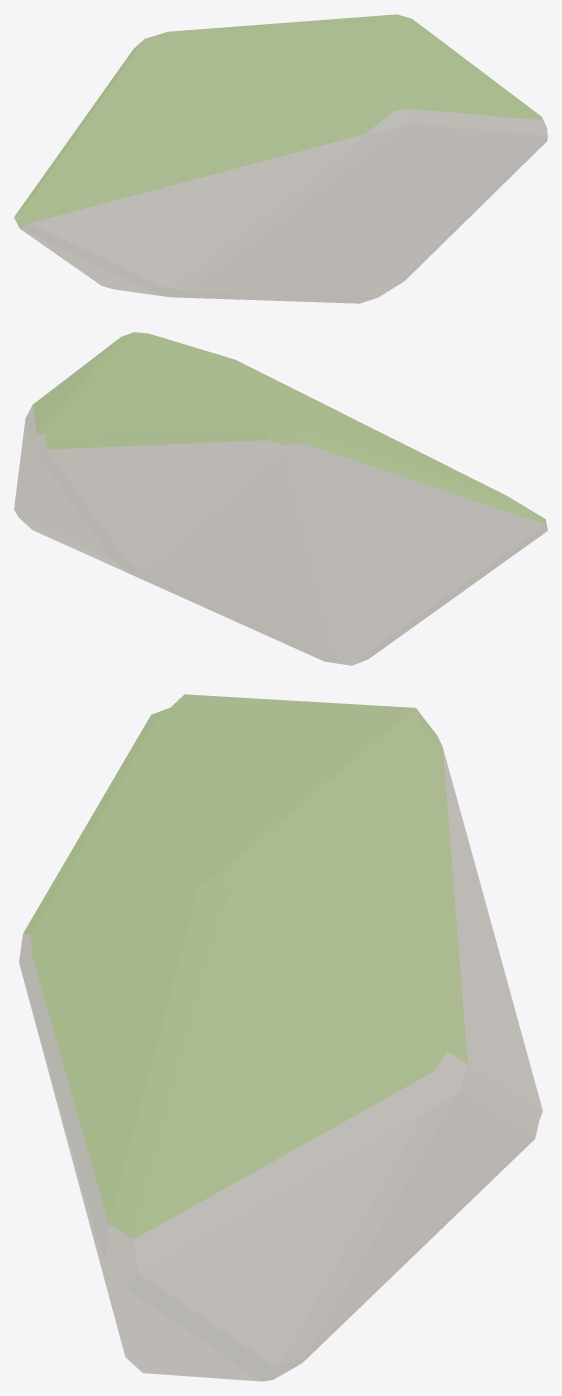
The model's file is Blender_BoulderAngular_2.glb.
The picture shows the model from 3 angles, top to bottom: view 1: azimuth 30°, elevation 25°; view 2: azimuth 150°, elevation 25°; view 3: azimuth 270°, elevation 25°; orthographic projection. The views are drawn at different scales.
Visible parts, largest first — view 1: Blender_BoulderAngular_2; view 2: Blender_BoulderAngular_2; view 3: Blender_BoulderAngular_2.
Boxes of the visible parts, bbox=[...] form: Blender_BoulderAngular_2: bbox=[14, 14, 547, 303]; Blender_BoulderAngular_2: bbox=[14, 332, 547, 665]; Blender_BoulderAngular_2: bbox=[19, 694, 542, 1381].
Bounding box in the file's own units: 2.1 × 0.9934 × 0.9122.
